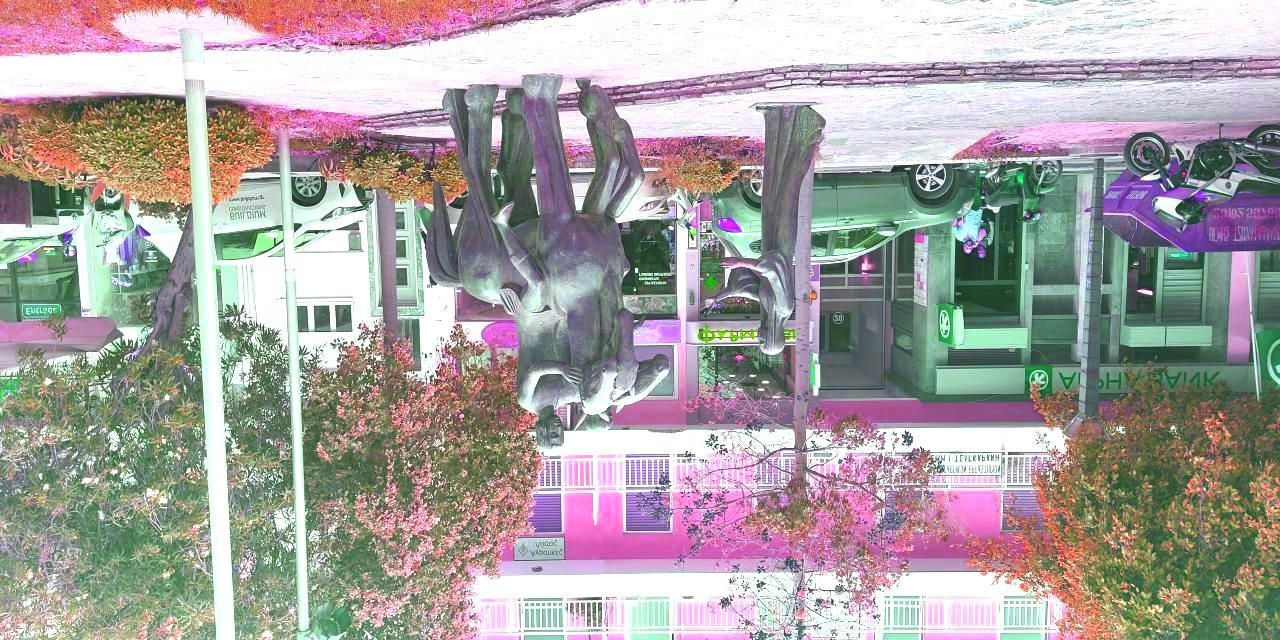Aretousa: (426, 74, 827, 454)
